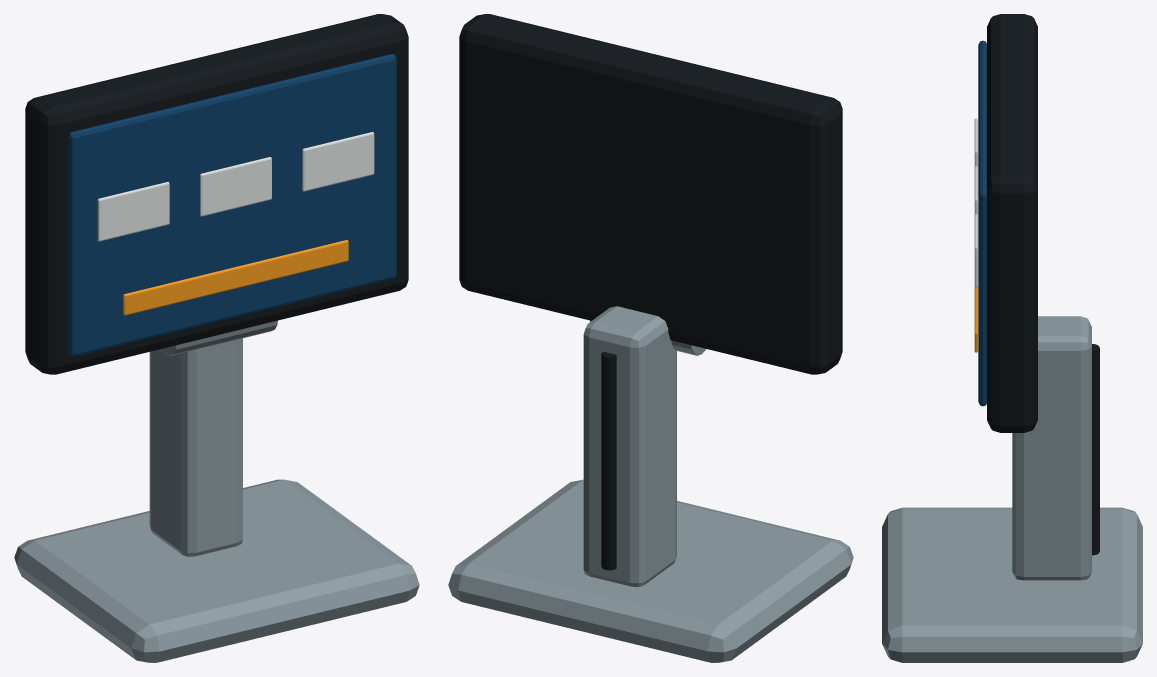
The picture shows the model from 3 angles, left to right: view 1: azimuth 30°, elevation 25°; view 2: azimuth 150°, elevation 25°; view 3: azimuth 270°, elevation 25°; orthographic projection. The views are drawn at different scales.
Parts seen in each view (by area): view 1: SCREEN, BASE, DISPLAY_Case, STAND, UI_Total, UI_Tile, UI_Tile.002, UI_Tile.001, TILT_Axle; view 2: DISPLAY_Case, BASE, STAND, CABLE_Stem; view 3: BASE, DISPLAY_Case, STAND, SCREEN, CABLE_Stem.
Part boxes in pixels (x1,y1,x2,y2): SCREEN: (68,54,396,356); BASE: (14,479,419,662); DISPLAY_Case: (25,14,408,374); STAND: (149,338,242,556); UI_Total: (123,240,348,315); UI_Tile: (97,182,169,241); UI_Tile.002: (302,132,374,191); UI_Tile.001: (200,157,271,216); TILT_Axle: (162,320,277,355); DISPLAY_Case: (459,14,842,374); BASE: (448,479,853,662); STAND: (583,306,676,586); CABLE_Stem: (601,351,616,570); BASE: (882,507,1142,662); DISPLAY_Case: (987,14,1037,432); STAND: (1012,316,1091,580); SCREEN: (978,40,986,406); CABLE_Stem: (1092,344,1099,555).
Size of the model in its own units: 0.36 by 0.495 by 0.23.
